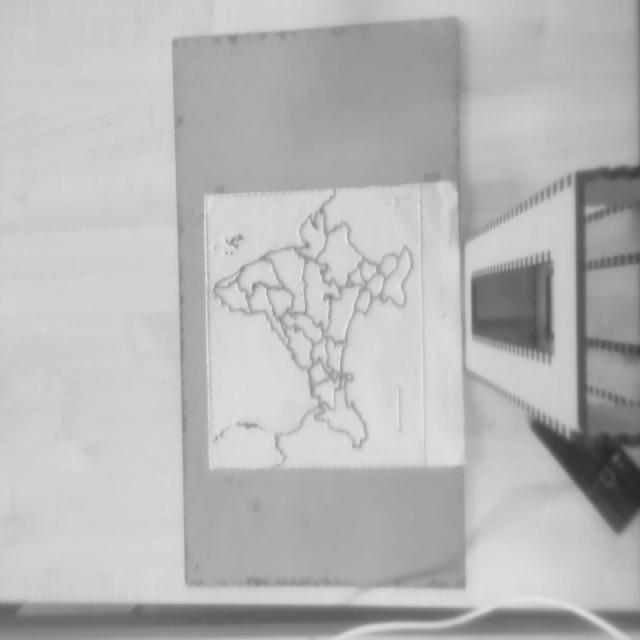map: (204, 184, 426, 470)
